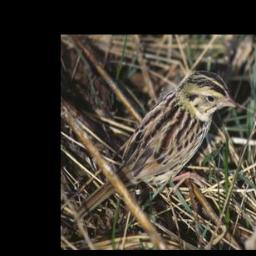Sparrow: (72, 67, 240, 225)
